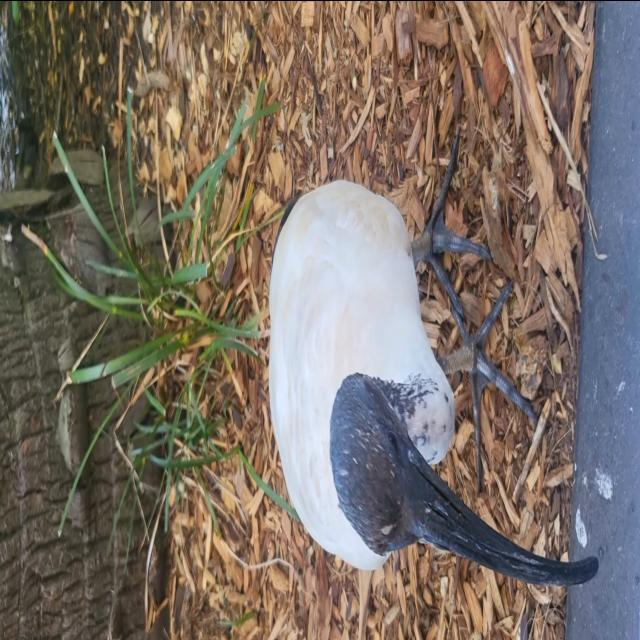Birds-Ibis: (263, 118, 601, 596)
